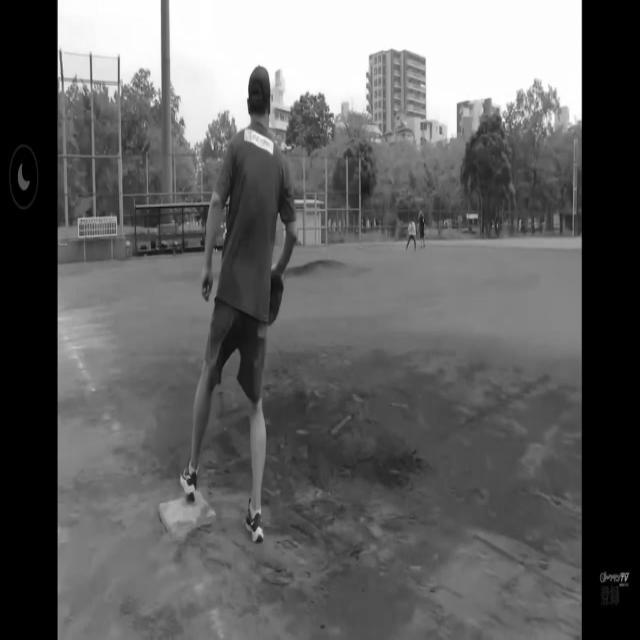base: (160, 491, 215, 535)
shoe: (246, 502, 266, 553), (180, 466, 200, 505)
